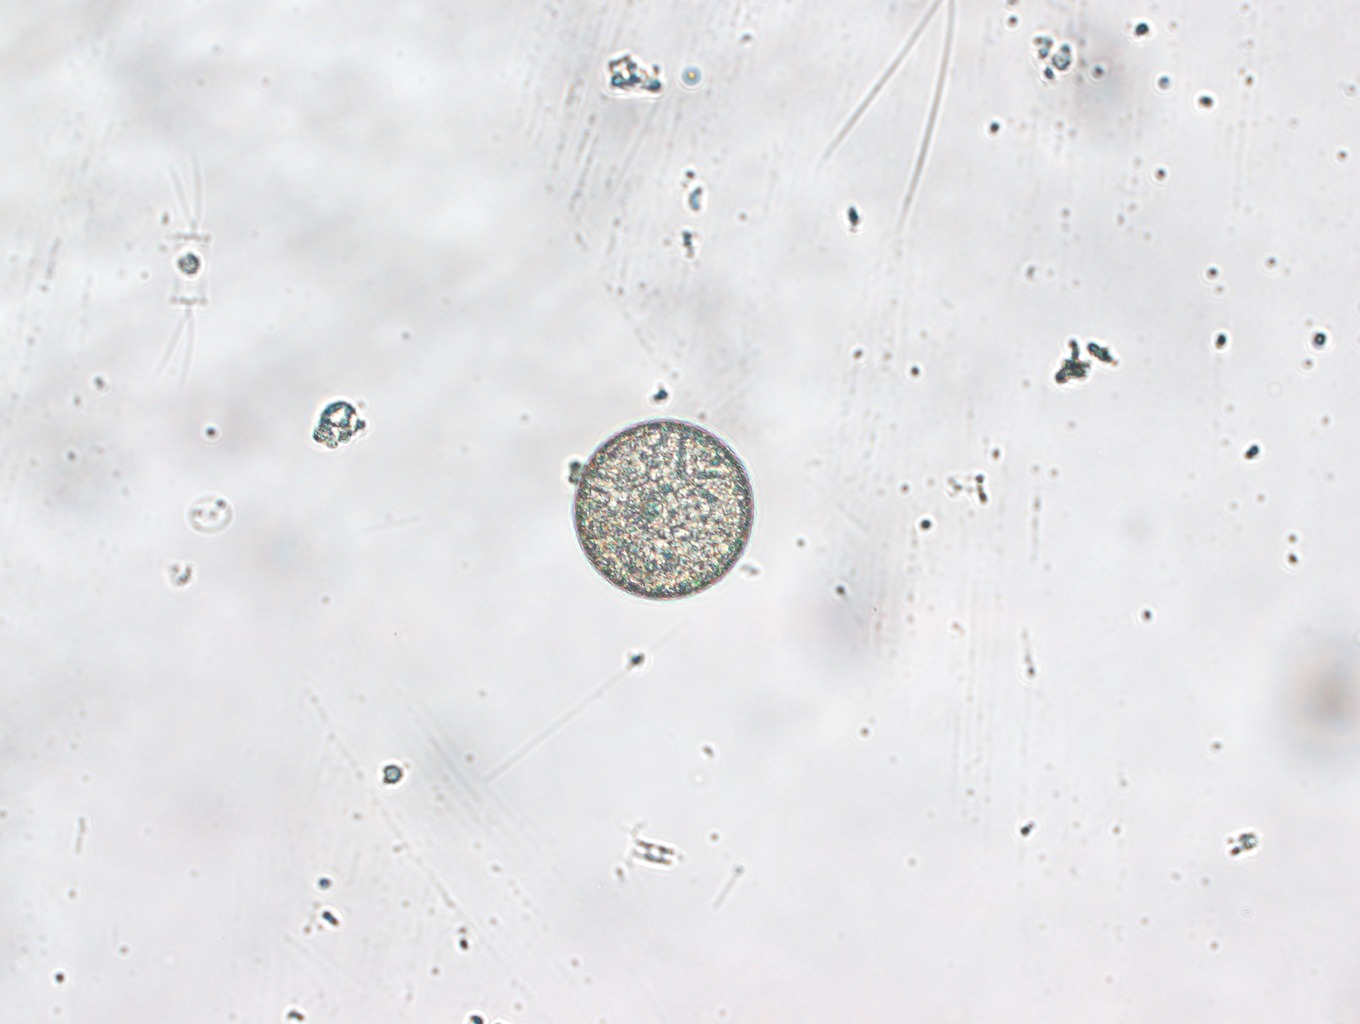chaetoceros: (160, 156, 211, 390)
coscinodiscus: (573, 418, 753, 601)
